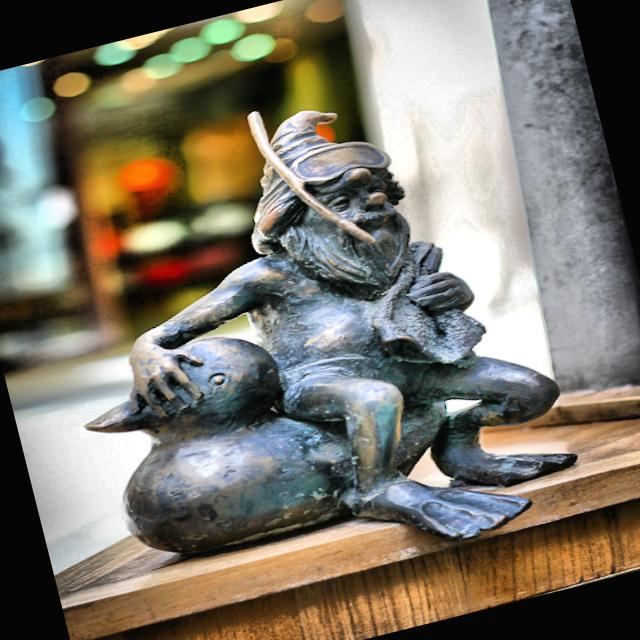Babelek_Chlaptus: (88, 110, 575, 553)
